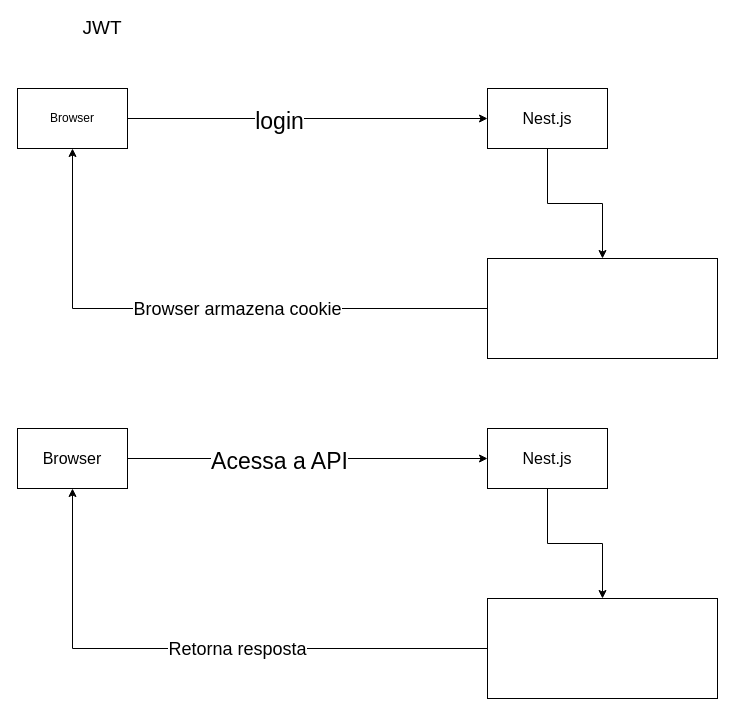
The diagram is 735 pixels wide and 716 high, and some of its shapes have lost their labels. The box of each missing label's shape, as (x1, y1, x2, y2) in pixels:
Valida credenciais Retorna token: (486, 258, 718, 358)
Valida token: (486, 598, 718, 698)
